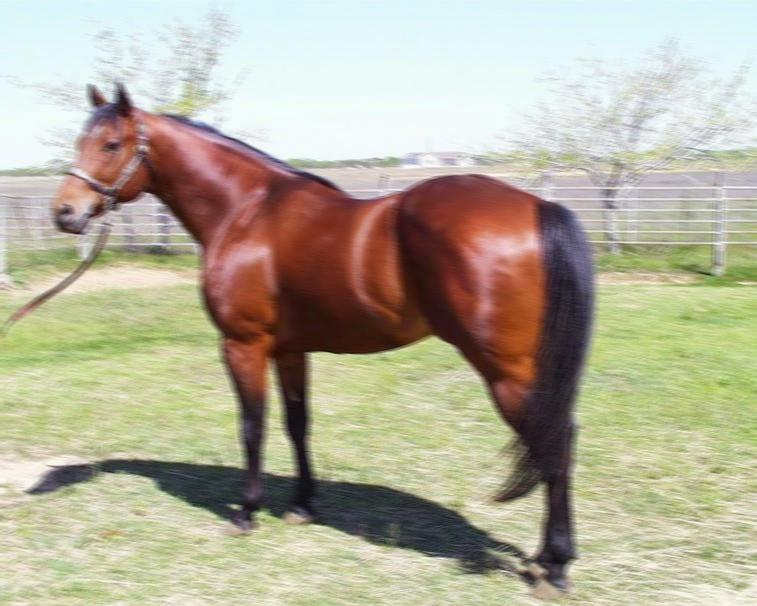horse: (45, 70, 604, 606)
